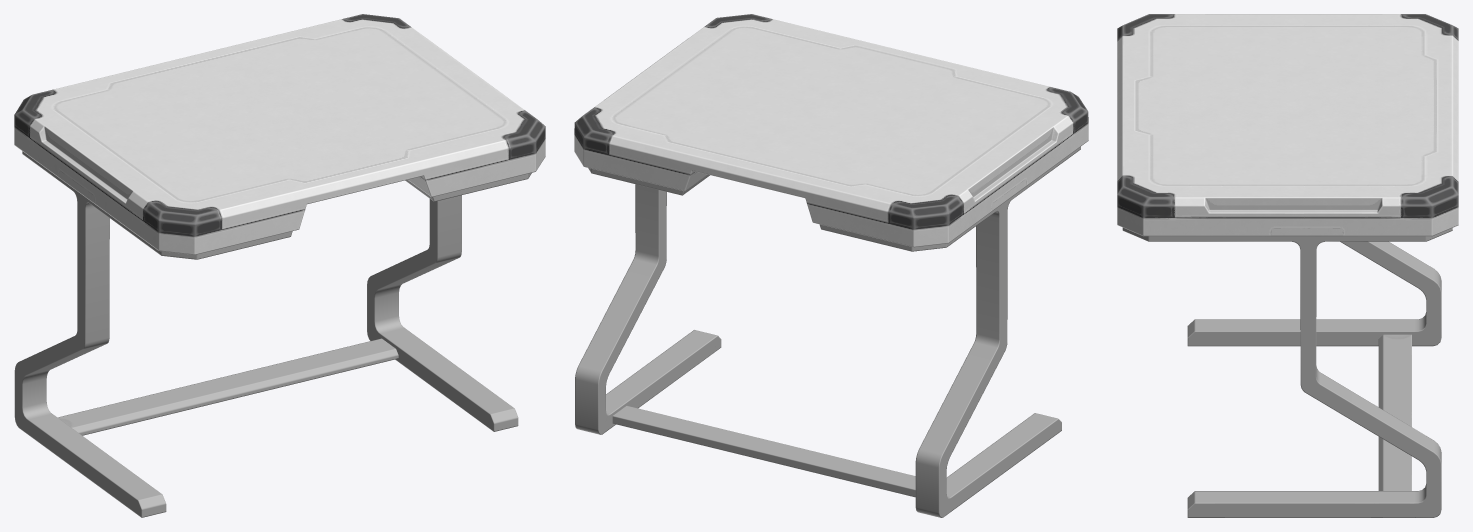
File: MedInstrumentsTable02.FBX
3 renders of one model, left to right at view 1: azimuth 30°, elevation 25°; view 2: azimuth 150°, elevation 25°; view 3: azimuth 270°, elevation 25°, orthographic. The views are drawn at different scales.
Visible parts, largest first — view 1: MedInstrumentsTable02; view 2: MedInstrumentsTable02; view 3: MedInstrumentsTable02.
Boxes of the visible parts, <box> form: MedInstrumentsTable02: <box>14,14,545,517</box>; MedInstrumentsTable02: <box>574,14,1088,517</box>; MedInstrumentsTable02: <box>1117,14,1458,517</box>.
Size of what is drawn, in the model's own units: 1.01 by 0.8 by 0.7732.
